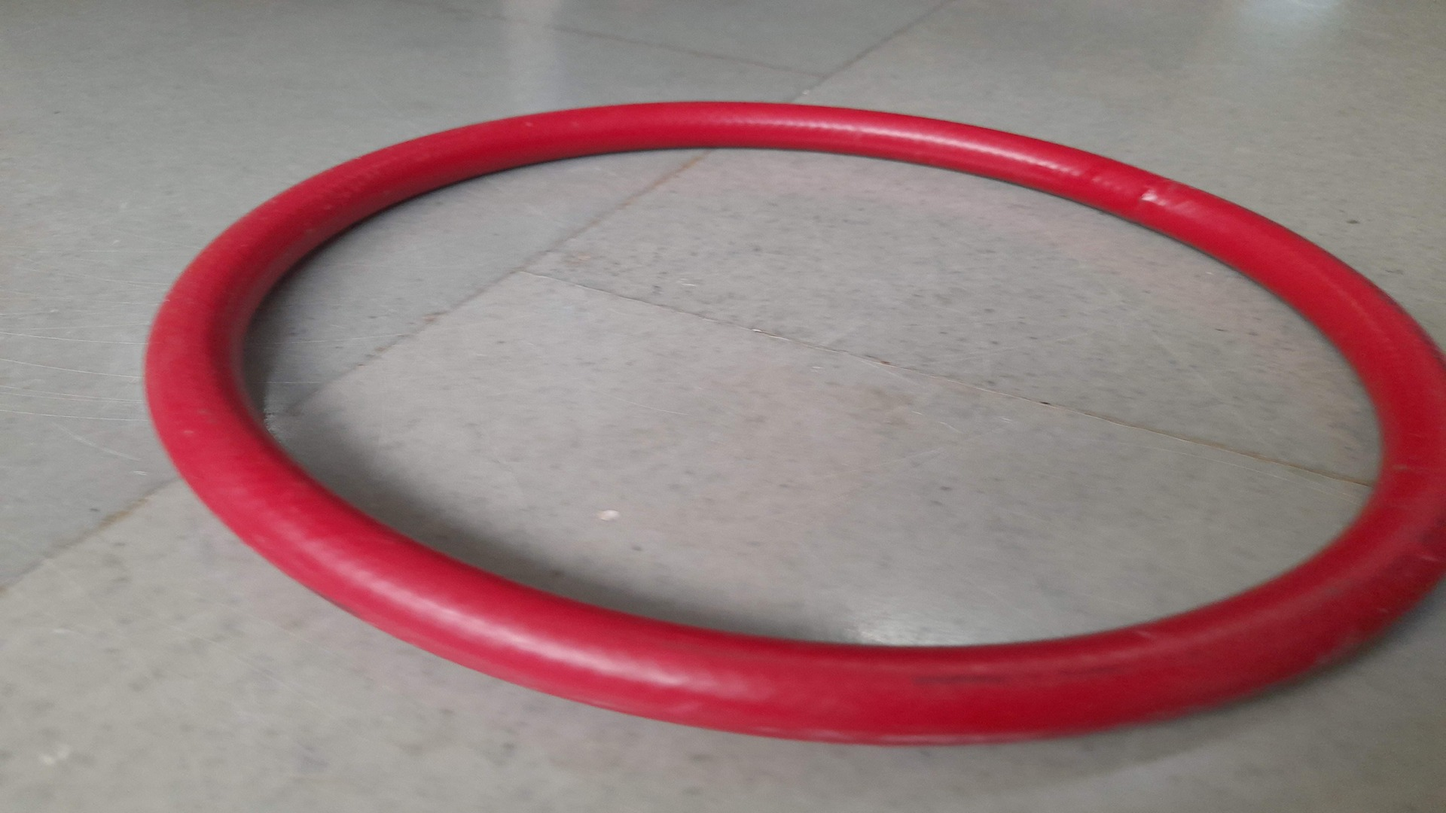Red ring: (142, 100, 1432, 744)
